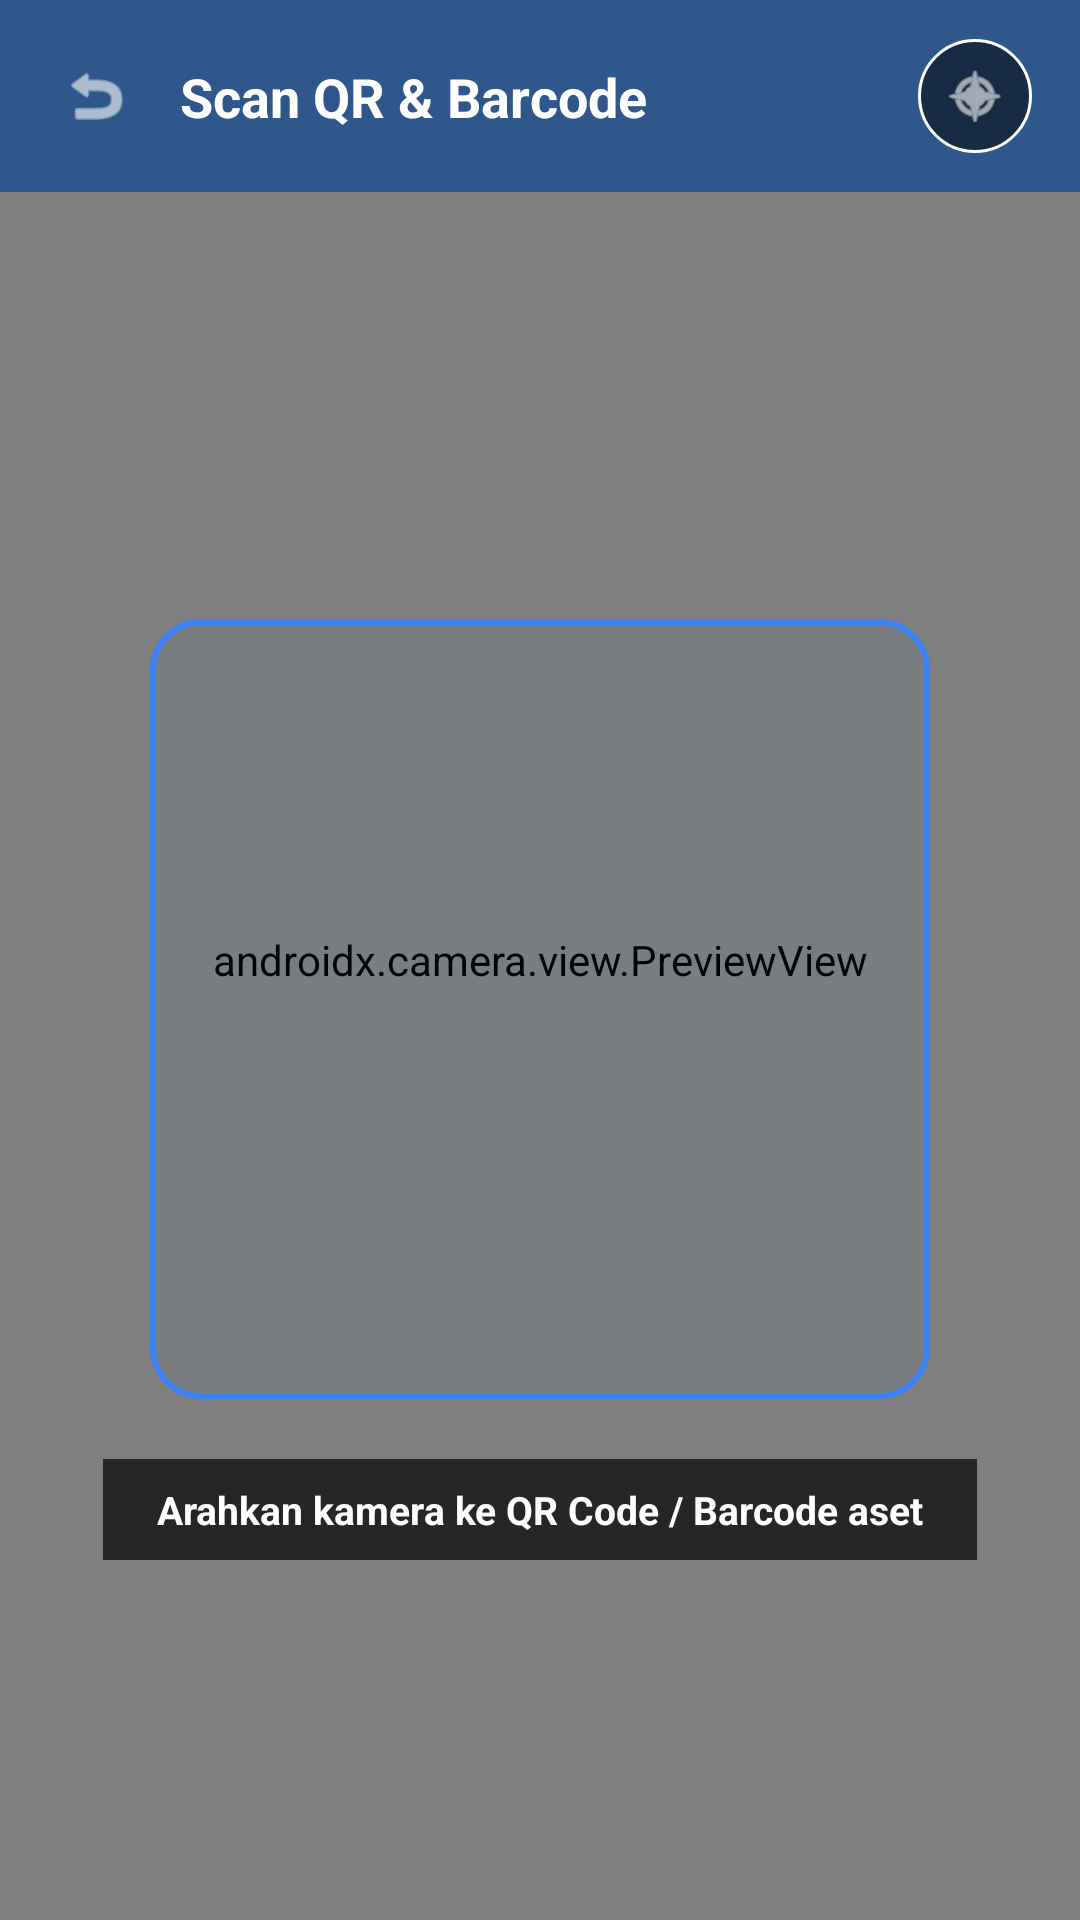

Screen size 1080w x 1920h. Icon name, then its center in pixels as point (x, y):
compass: point (975, 96)
revert: point (97, 96)
